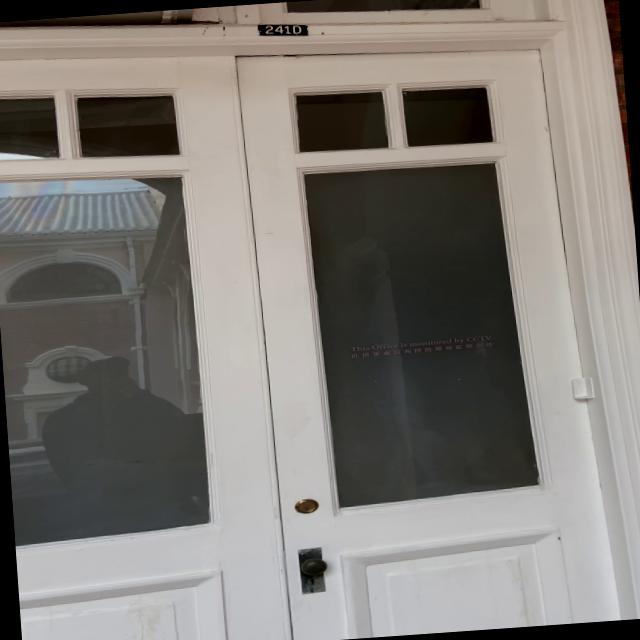room241d: (253, 19, 310, 42)
